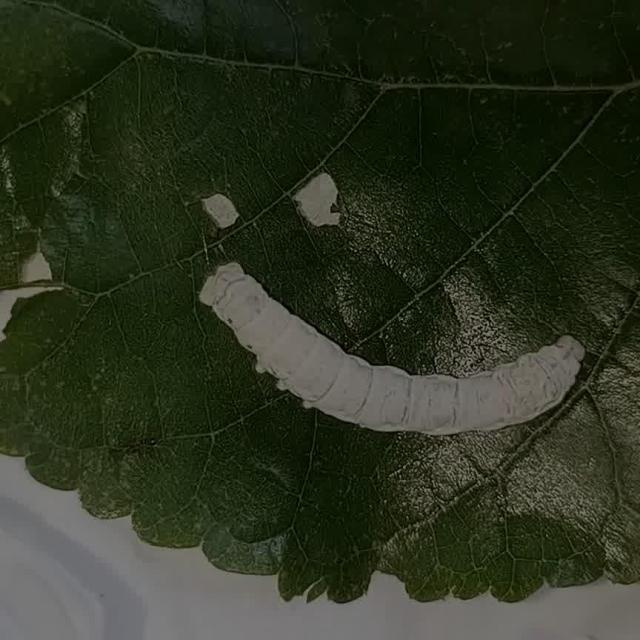Healthy: (195, 252, 589, 442)
